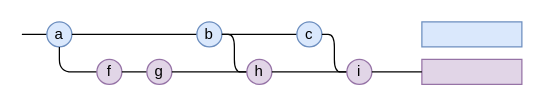
The diagram is 544 pixels wide and 106 high, and some of its shapes have lost their labels. The centre of each missing label's shape, as x and y in pixels:
Branch 1: (471,34)
Branch 2: (471,71)
